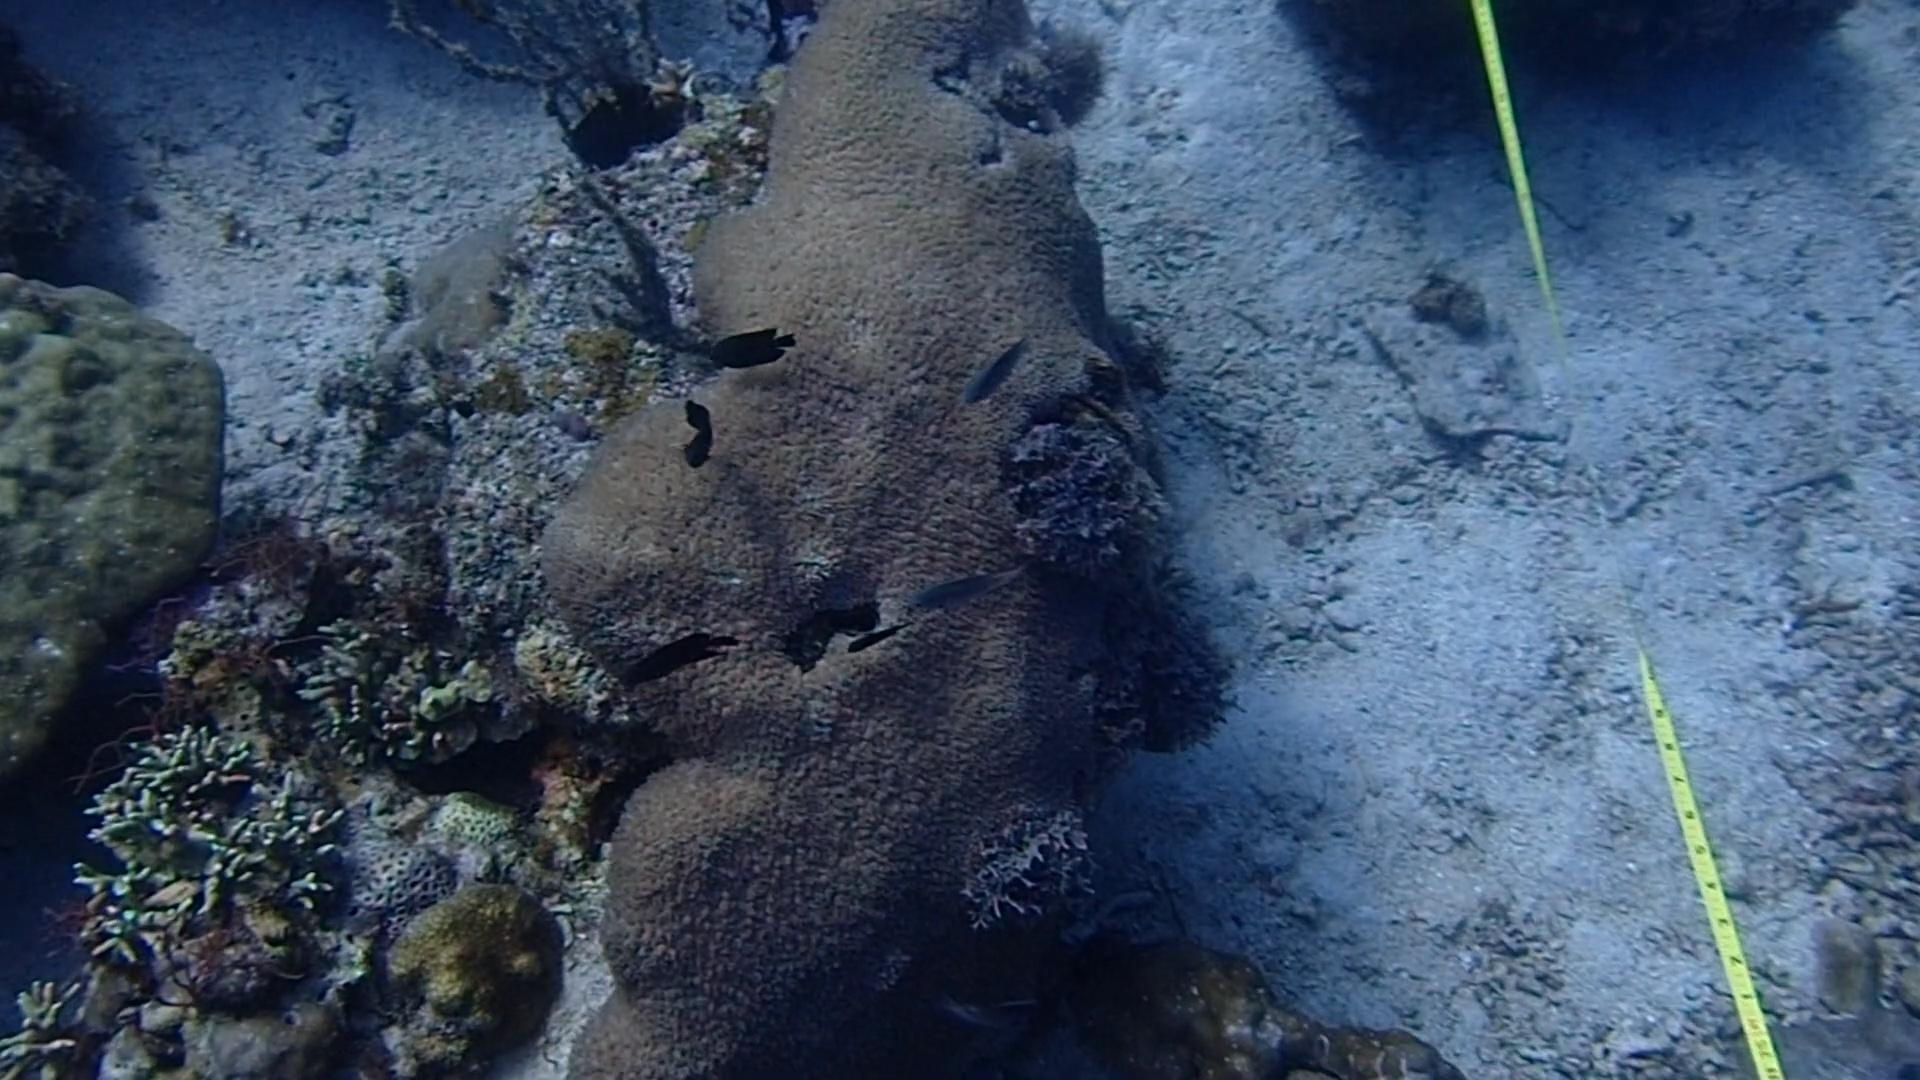Dark Fish: (613, 618, 731, 707), (700, 311, 808, 375), (670, 385, 728, 463), (844, 625, 907, 666)
Light Fish: (899, 554, 1018, 633), (931, 971, 1027, 1058), (947, 316, 1035, 402)
